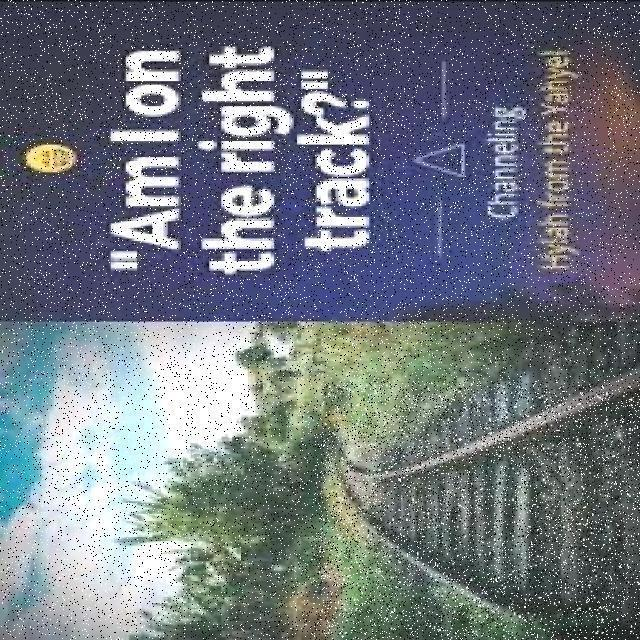rail: (315, 382, 640, 640)
